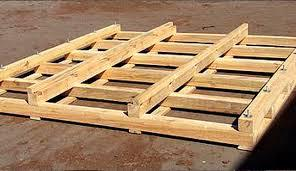wood: (3, 22, 293, 151)
